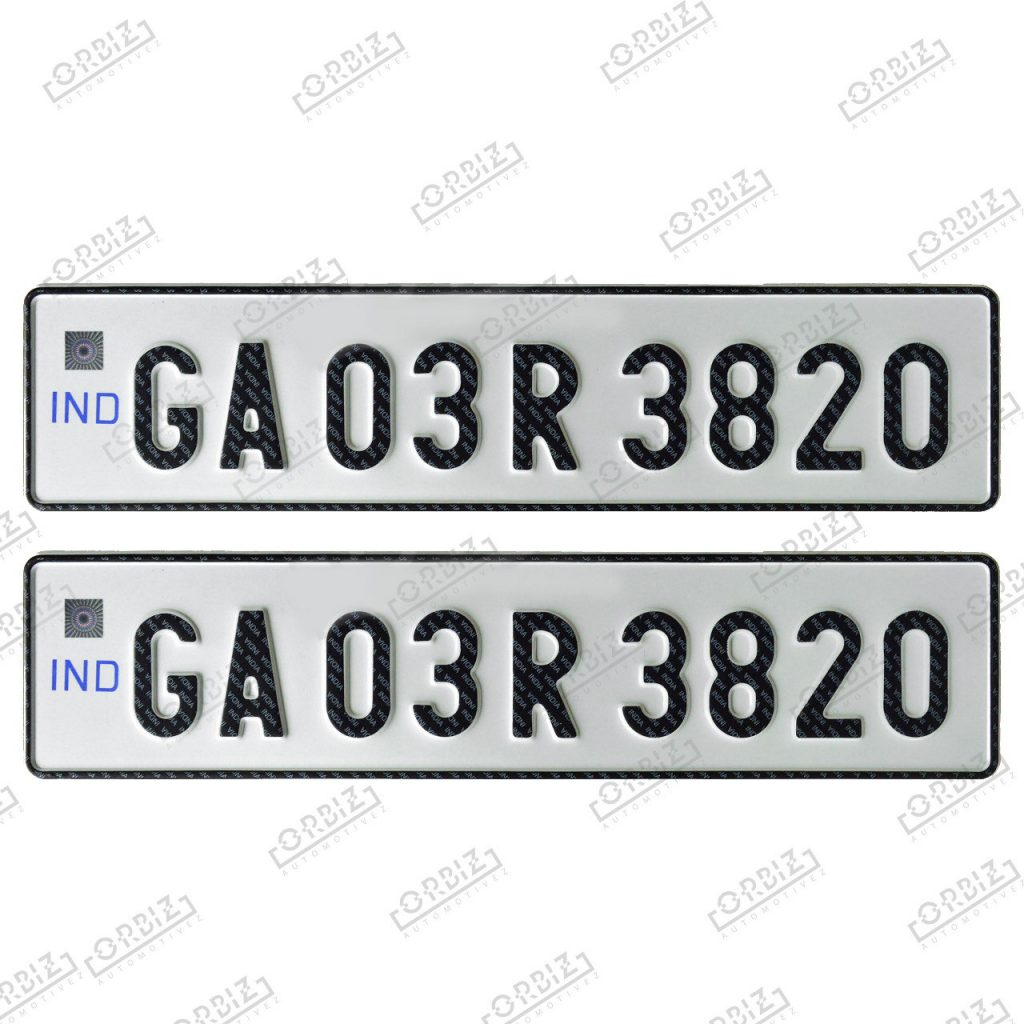number_plate: (24, 280, 1003, 513), (24, 550, 998, 784)
